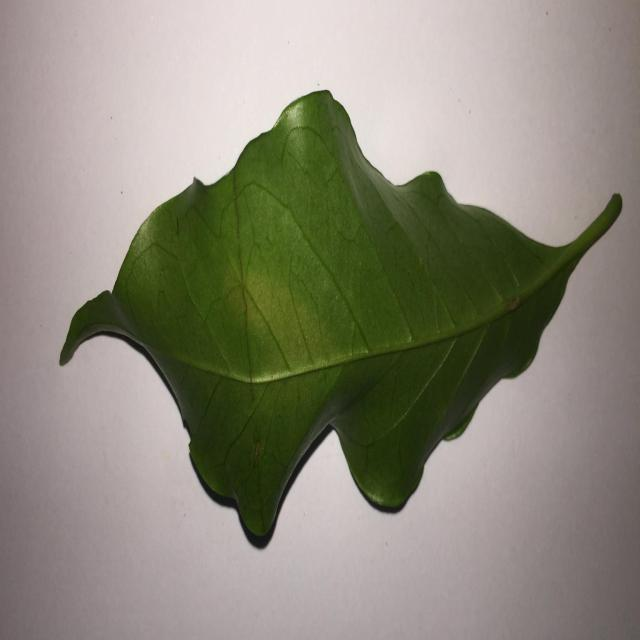Sanas: (58, 90, 624, 552)
